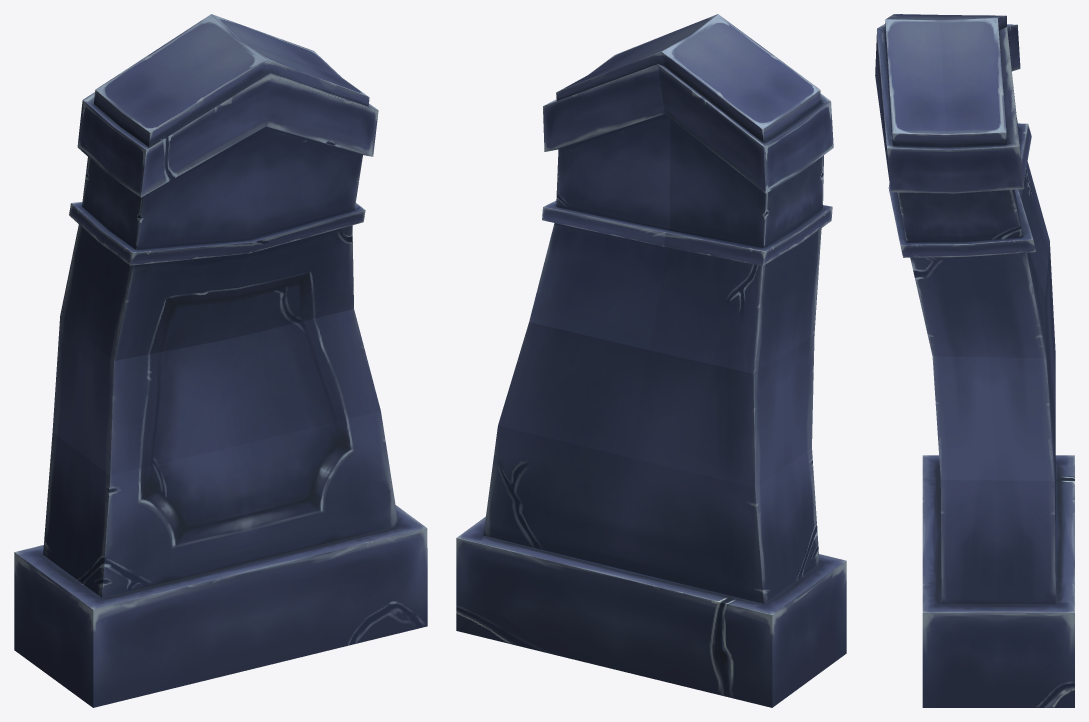
The model's file is gravestone4_3.fbx.
3 renders of one model, left to right at view 1: azimuth 30°, elevation 25°; view 2: azimuth 150°, elevation 25°; view 3: azimuth 270°, elevation 25°, orthographic. The views are drawn at different scales.
Visible parts, largest first — view 1: Cube.010; view 2: Cube.010; view 3: Cube.010.
Boxes of the visible parts, x1=… form: Cube.010: x1=14, y1=14, x2=427, y2=707; Cube.010: x1=456, y1=14, x2=846, y2=707; Cube.010: x1=875, y1=14, x2=1074, y2=707.
Size of the model in its own units: 236 by 422 by 126.
